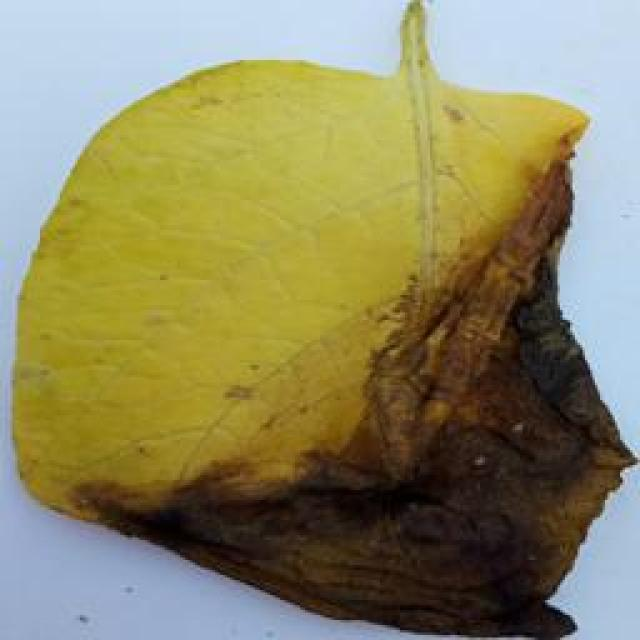Potato_Late_Blight: (14, 5, 625, 633)
